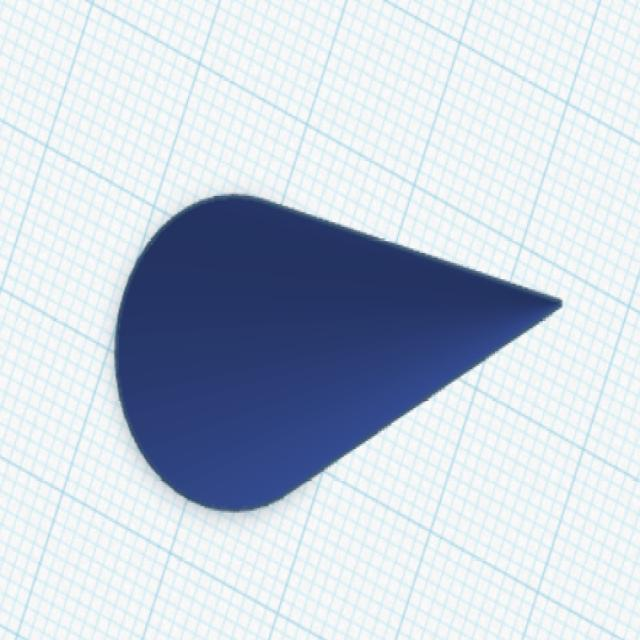cone: (110, 189, 568, 517)
